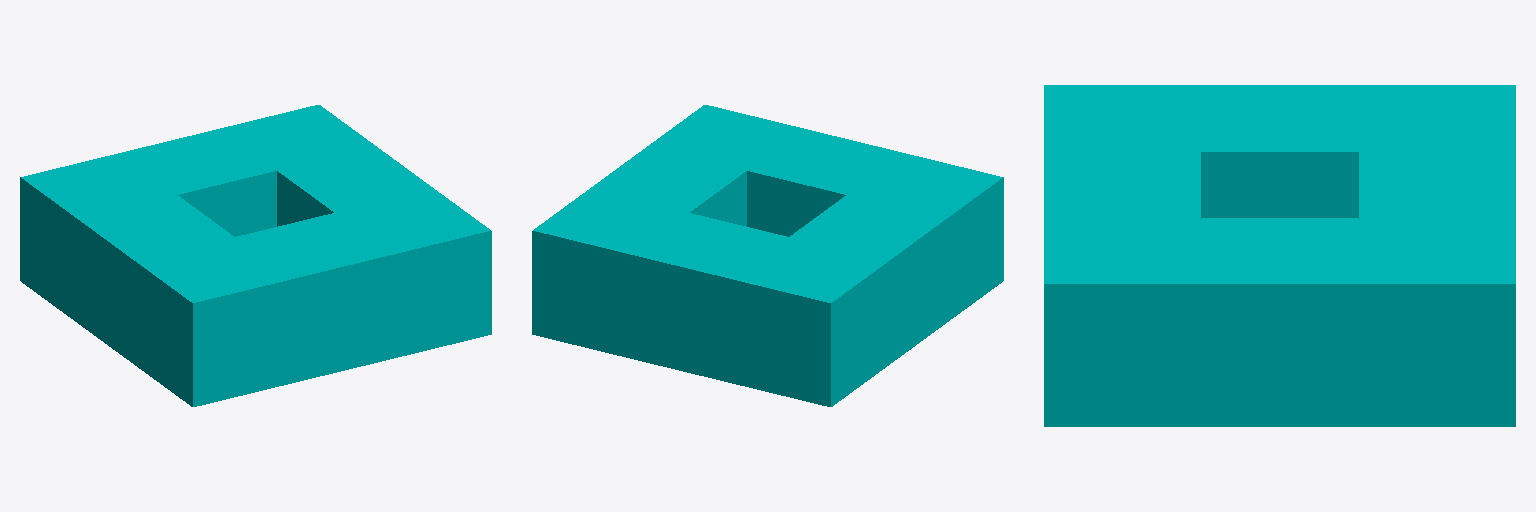
The robot description file, URDF, robot "slot":
<?xml version="1.0" ?>

<robot name="slot">
    <material name="slot">
        <color rgba="0 0.8 0.8 1"/>
    </material>
    <material name="slot_target">
        <color rgba="0 0.8 0.8 0.0"/>
    </material>
    <link name="base">
        <contact>
            <lateral_friction value="1.0"/>
            <rolling_friction value="0.0"/>
            <inertia_scaling value="3.0"/>
            <contact_cfm value="0.0"/>
            <contact_erp value="1.0"/>
        </contact>
        <inertial>
            <origin rpy="0 0 0" xyz="0 0 0"/>
            <mass value="0"/>
            <inertia ixx="0.1" ixy="0" ixz="0" iyy="0.1" iyz="0" izz="0.1"/>
        </inertial>
        <visual>
            <origin rpy="0 0 0" xyz="0 0 0"/>
            <geometry>
                <box size="0.03 0.09 0.03"/>
            </geometry>
            <material name="slot"/>
        </visual>
        <collision>
            <origin rpy="0 0 0" xyz="0 0 0"/>
            <geometry>
                <box size="0.03 0.09 0.03"/>
            </geometry>
        </collision>
    </link>
    <joint name="base_left_joint" type="fixed">
        <origin rpy="0 0 0" xyz="-0.03 0.03 0"/>
        <parent link="base"/>
        <child link="left"/>
    </joint>
    <link name="left">
        <contact>
            <lateral_friction value="1.0"/>
            <rolling_friction value="0.0"/>
            <inertia_scaling value="3.0"/>
            <contact_cfm value="0.0"/>
            <contact_erp value="1.0"/>
        </contact>
        <inertial>
            <origin rpy="0 0 0" xyz="0 0 0"/>
            <mass value="0"/>
            <inertia ixx="0.1" ixy="0" ixz="0" iyy="0.1" iyz="0" izz="0.1"/>
        </inertial>
        <visual>
            <origin rpy="0 0 0" xyz="0 0 0"/>
            <geometry>
                <box size="0.03 0.03 0.03"/>
            </geometry>
            <material name="slot"/>
        </visual>
        <collision>
            <origin rpy="0 0 0" xyz="0 0 0"/>
            <geometry>
                <box size="0.03 0.03 0.03"/>
            </geometry>
        </collision>
    </link>
    <joint name="base_right_joint" type="fixed">
        <origin rpy="0 0 0" xyz="-0.03 -0.03 0"/>
        <parent link="base"/>
        <child link="right"/>
    </joint>
    <link name="right">
        <contact>
            <lateral_friction value="1.0"/>
            <rolling_friction value="0.0"/>
            <inertia_scaling value="3.0"/>
            <contact_cfm value="0.0"/>
            <contact_erp value="1.0"/>
        </contact>
        <inertial>
            <origin rpy="0 0 0" xyz="0 0 0"/>
            <mass value="0"/>
            <inertia ixx="0.1" ixy="0" ixz="0" iyy="0.1" iyz="0" izz="0.1"/>
        </inertial>
        <visual>
            <origin rpy="0 0 0" xyz="0 0 0"/>
            <geometry>
                <box size="0.03 0.03 0.03"/>
            </geometry>
            <material name="slot"/>
        </visual>
        <collision>
            <origin rpy="0 0 0" xyz="0 0 0"/>
            <geometry>
                <box size="0.03 0.03 0.03"/>
            </geometry>
        </collision>
    </link>
    <joint name="base_end_joint" type="fixed">
        <origin rpy="0 0 0" xyz="-0.06 0 0"/>
        <parent link="base"/>
        <child link="end"/>
    </joint>
    <link name="end">
        <contact>
            <lateral_friction value="1.0"/>
            <rolling_friction value="0.0"/>
            <inertia_scaling value="3.0"/>
            <contact_cfm value="0.0"/>
            <contact_erp value="1.0"/>
        </contact>
        <inertial>
            <origin rpy="0 0 0" xyz="0 0 0"/>
            <mass value="0"/>
            <inertia ixx="0.1" ixy="0" ixz="0" iyy="0.1" iyz="0" izz="0.1"/>
        </inertial>
        <visual>
            <origin rpy="0 0 0" xyz="0 0 0"/>
            <geometry>
                <box size="0.03 0.09 0.03"/>
            </geometry>
            <material name="slot"/>
        </visual>
        <collision>
            <origin rpy="0 0 0" xyz="0 0 0"/>
            <geometry>
                <box size="0.03 0.09 0.03"/>
            </geometry>
        </collision>
    </link>
    <joint name="base_target_joint" type="fixed">
        <origin rpy="0 0 0" xyz="-0.03 0 0"/>
        <parent link="base"/>
        <child link="slot_target"/>
    </joint>
    <link name="slot_target">
        <inertial>
            <origin rpy="0 0 0" xyz="0 0 0"/>
            <mass value="0"/>
            <inertia ixx="0.1" ixy="0" ixz="0" iyy="0.1" iyz="0" izz="0.1"/>
        </inertial>
        <visual>
            <origin rpy="0 0 0" xyz="0 0 0"/>
            <geometry>
                <sphere radius="0.0001"/>
            </geometry>
            <material name="slot_target"/>
        </visual>
    </link>
</robot>

--- Render facts (derived) ---
3 views of the same robot in one strip: view 1: azimuth 30°, elevation 25°; view 2: azimuth 150°, elevation 25°; view 3: azimuth 270°, elevation 25° (orthographic).
Model slot with 5 links and 4 joints (4 fixed), rooted at base, posed every joint at zero.
Links seen in each view (by area): view 1: end, base, right, left; view 2: end, base, left, right; view 3: base, end, left, right.
Boxes of the visible links, x1=… form: end: x1=20, y1=153, x2=291, y2=406; base: x1=220, y1=105, x2=491, y2=358; right: x1=236, y1=213, x2=391, y2=382; left: x1=121, y1=129, x2=276, y2=236; end: x1=732, y1=153, x2=1003, y2=406; base: x1=532, y1=105, x2=803, y2=358; left: x1=632, y1=213, x2=787, y2=382; right: x1=747, y1=129, x2=902, y2=236; base: x1=1044, y1=218, x2=1515, y2=426; end: x1=1044, y1=85, x2=1515, y2=217; left: x1=1359, y1=152, x2=1515, y2=217; right: x1=1044, y1=152, x2=1200, y2=217.
Size in the robot's own frame: 0.09 by 0.09 by 0.03 metres.
Geometry: primitives only (box / cylinder / sphere), no mesh files.